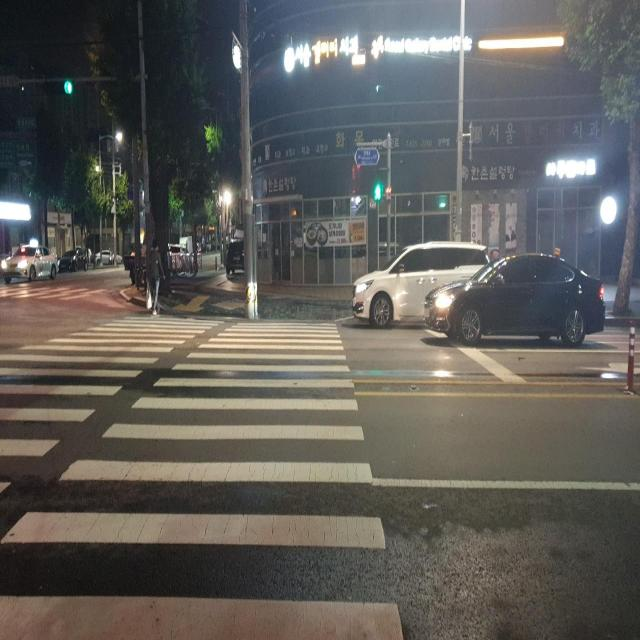초록불: (373, 168, 383, 204)
횡단보도: (0, 313, 405, 639)
